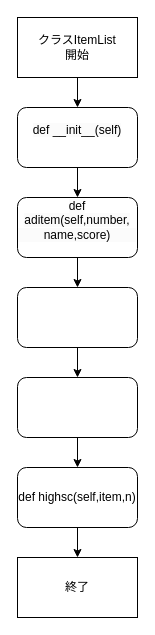
Some shapes in this 155 by 635 pixel diagram are drawn without their labels. Each missing label, with the centre of its shape:
"def csvreader (self,filename)" belongs at point (77, 317).
"def outout(self,newfile)" belongs at point (77, 407).
